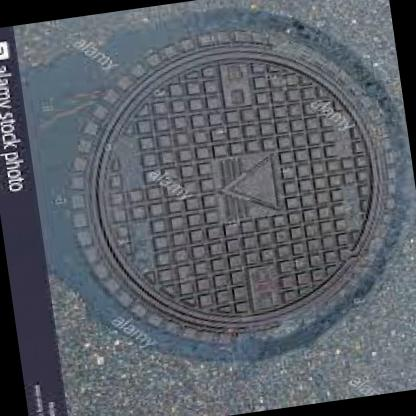manholes: (52, 6, 416, 379)
